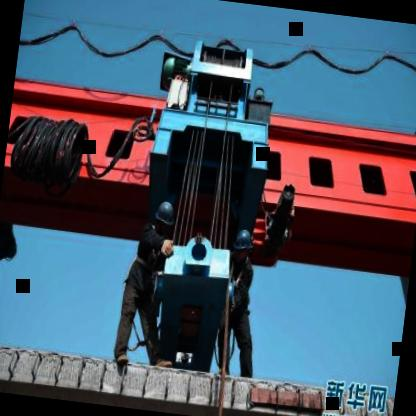helmet: (150, 197, 181, 242), (227, 226, 255, 262)
